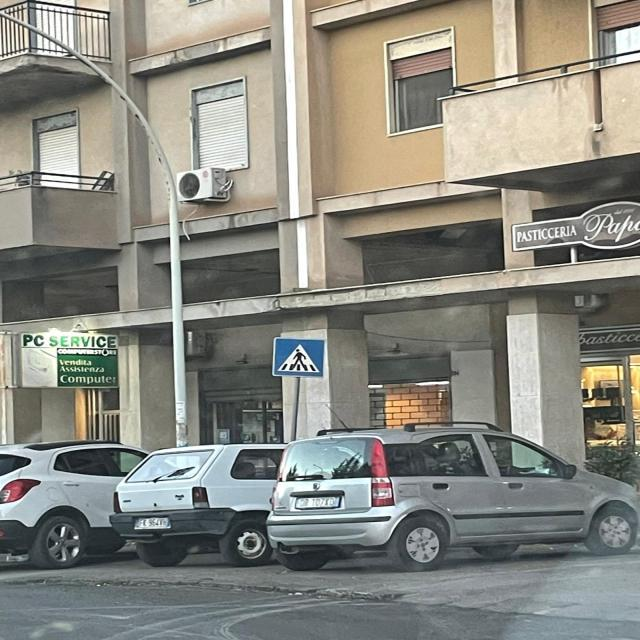info_crosswalk: (272, 337, 327, 378)
